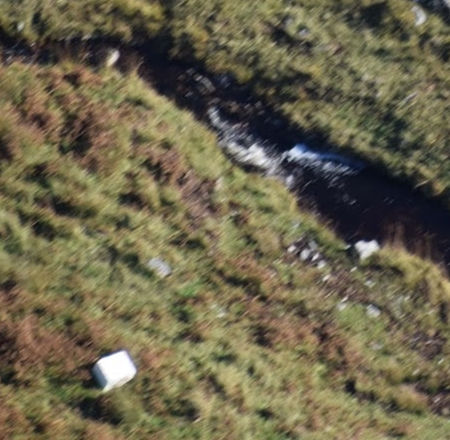cuboid: (85, 346, 143, 395)
